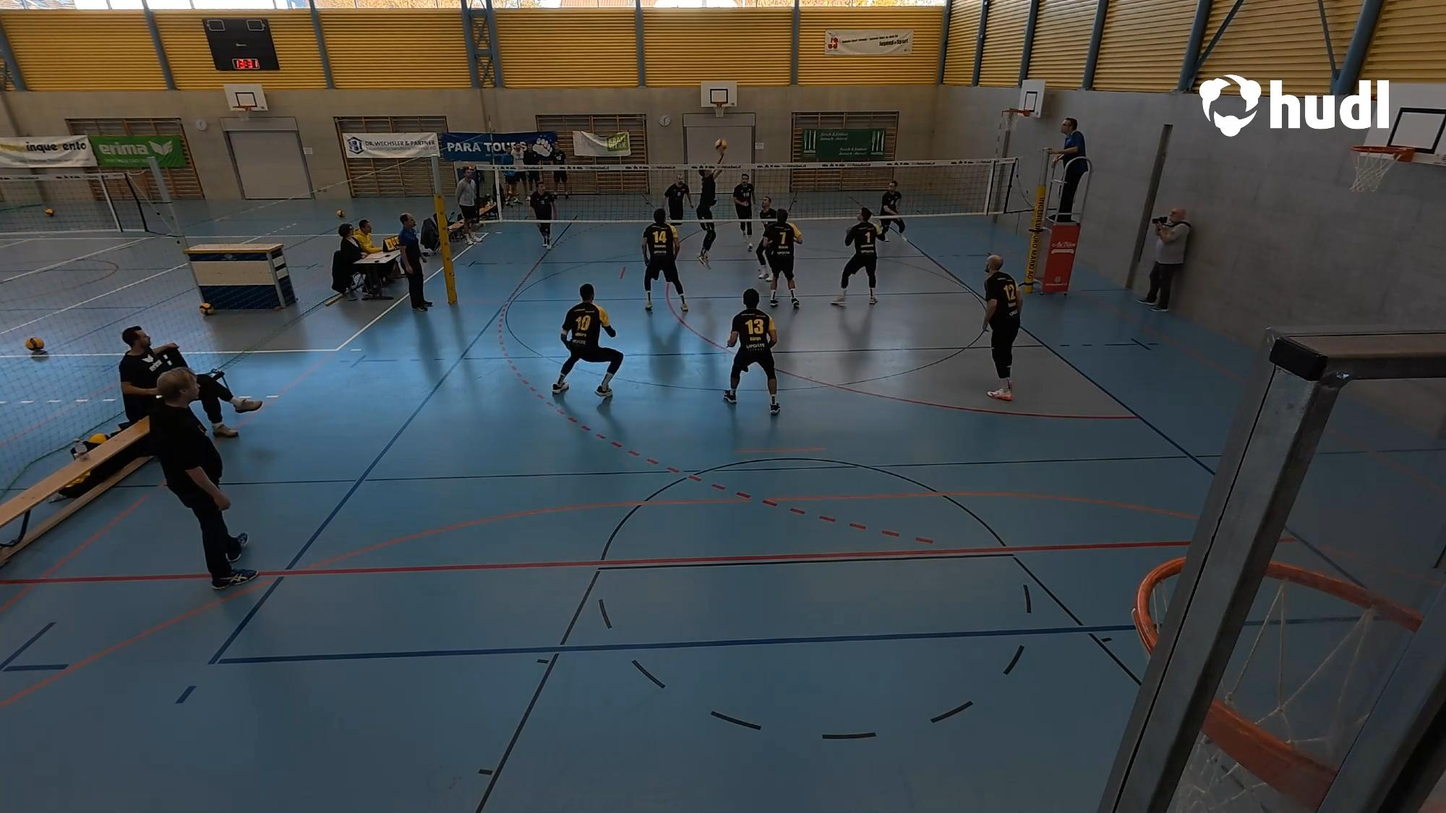alzata: (691, 137, 730, 273)
